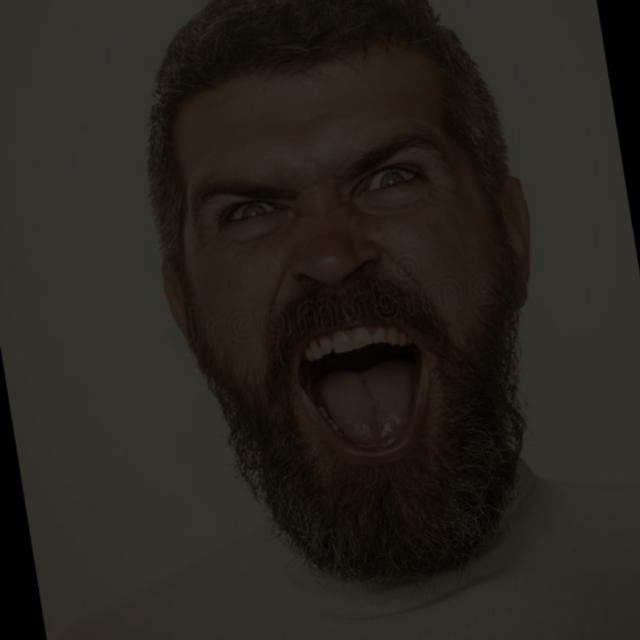Angry: (107, 95, 586, 578)
